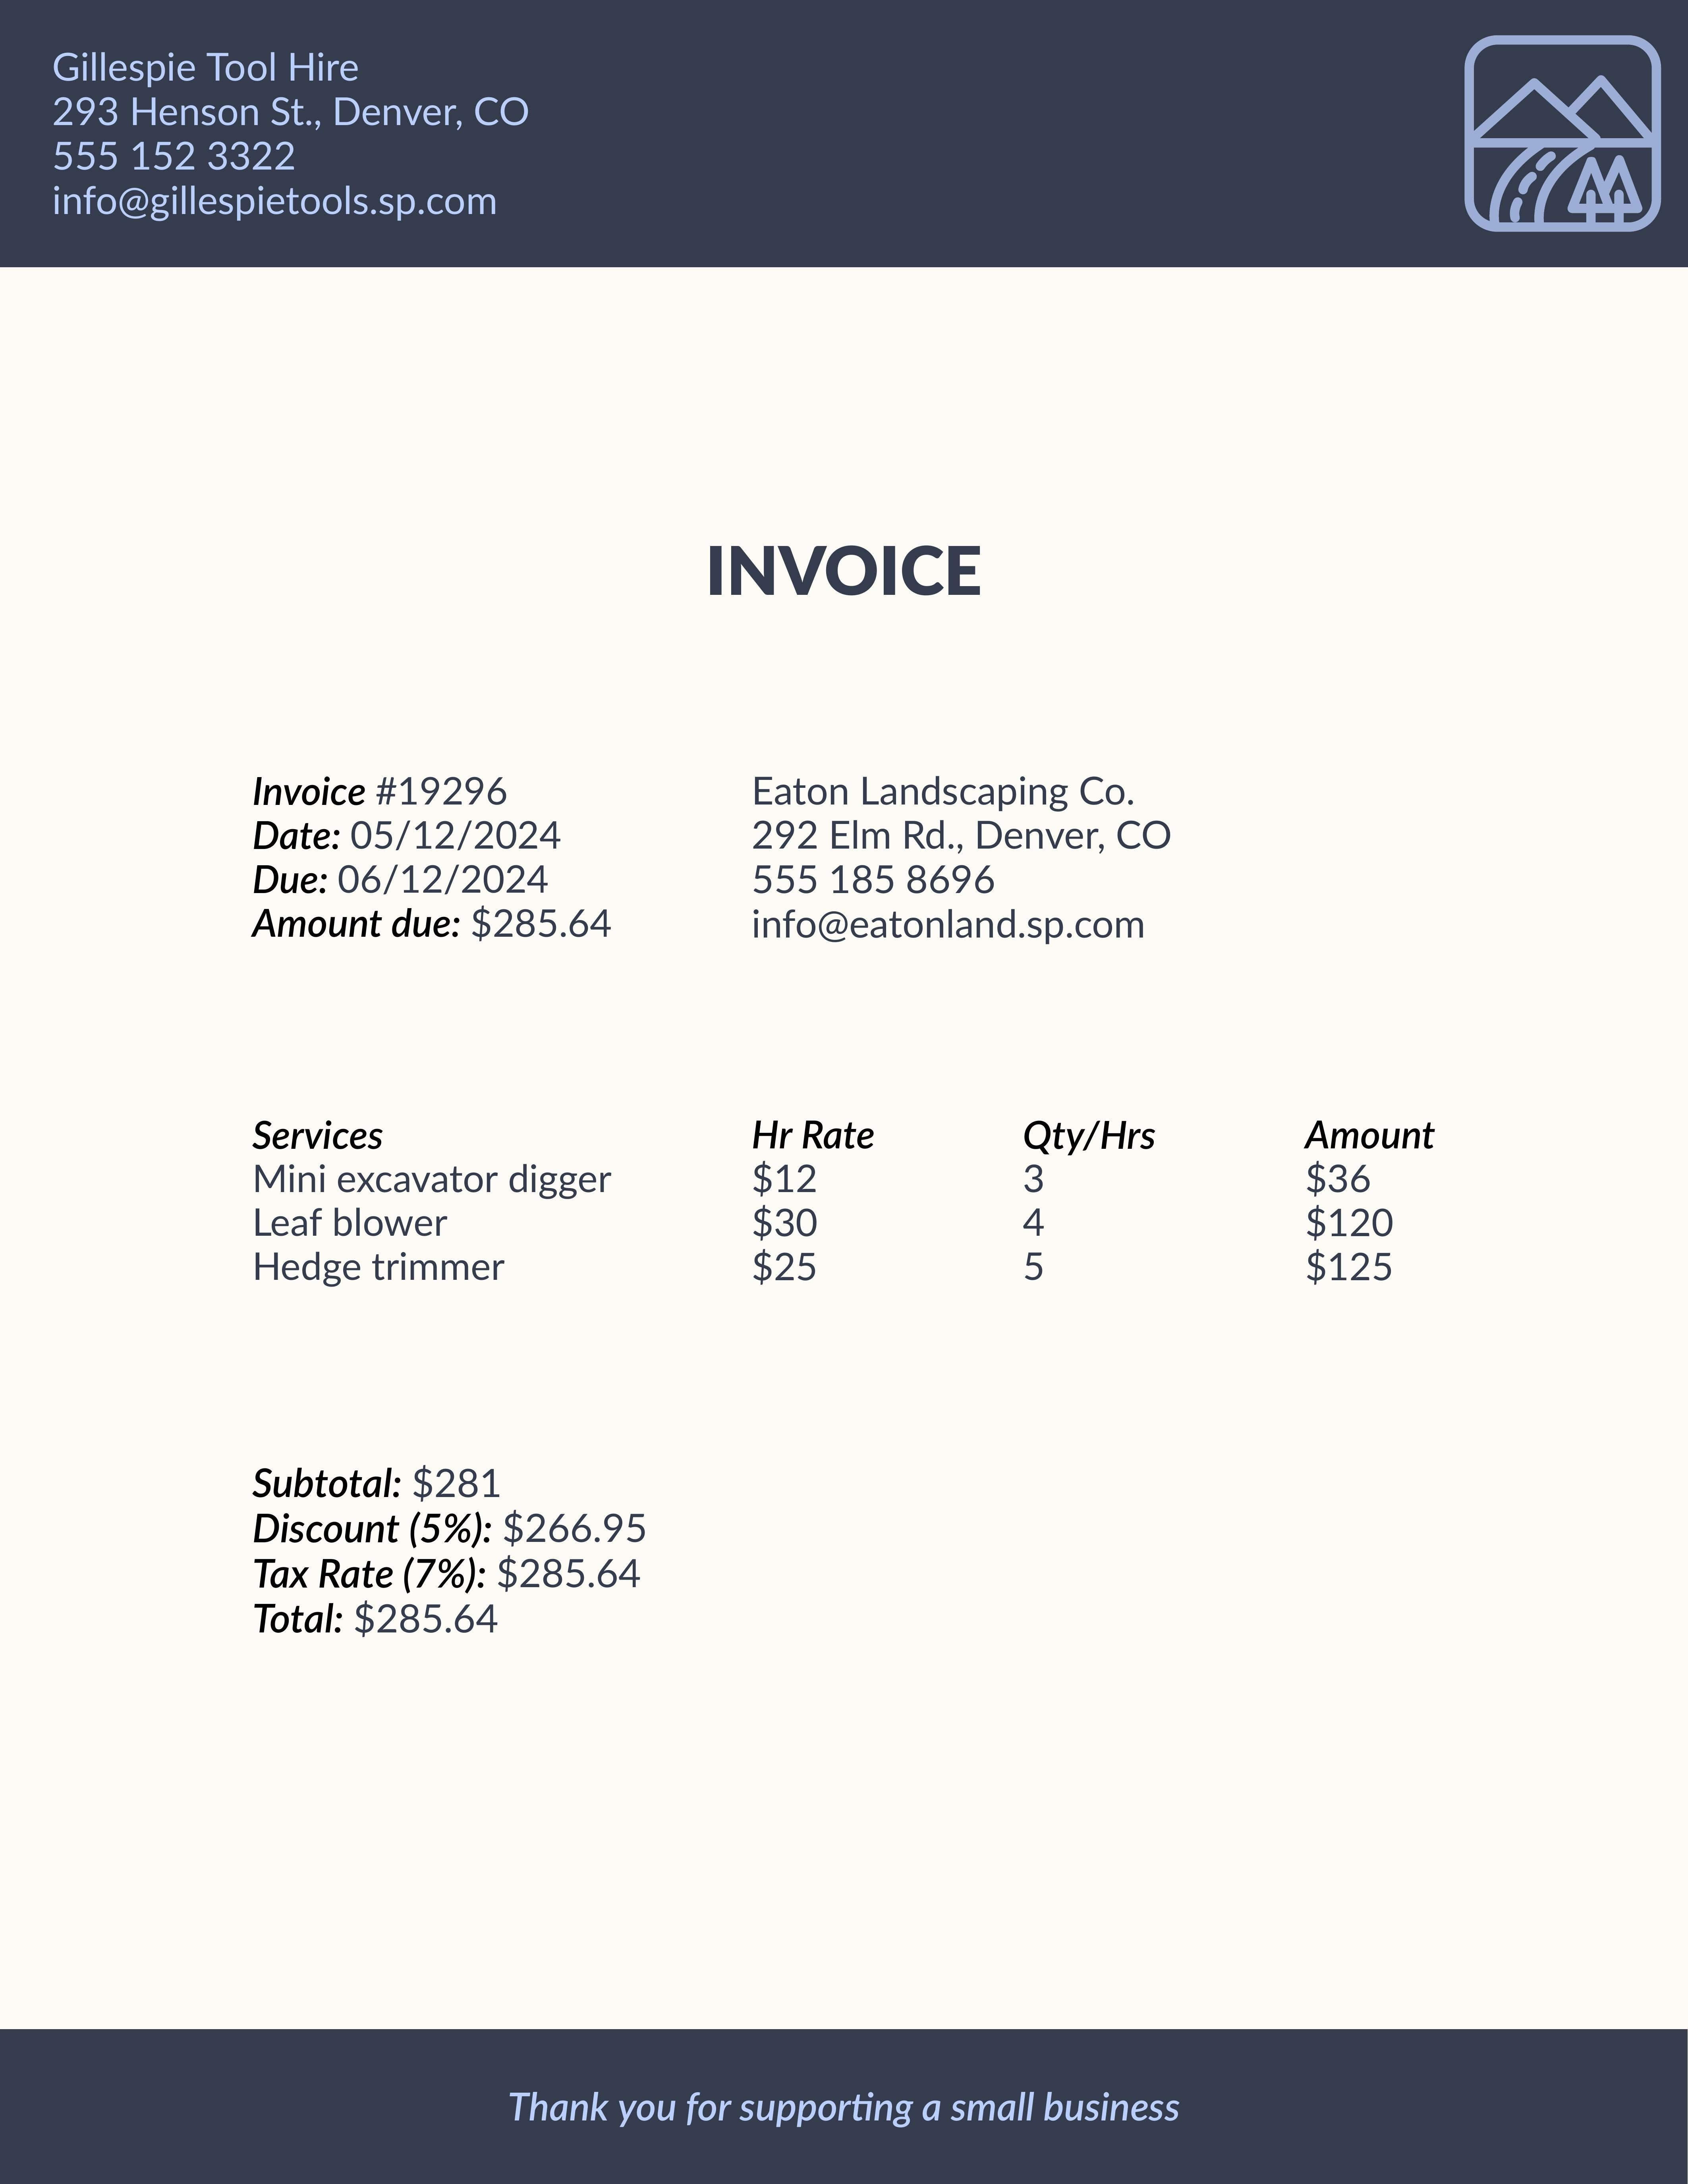ROI: (241, 1112, 1475, 1305), (39, 34, 551, 230), (741, 761, 1181, 959), (241, 1452, 651, 1652), (246, 759, 628, 952)
